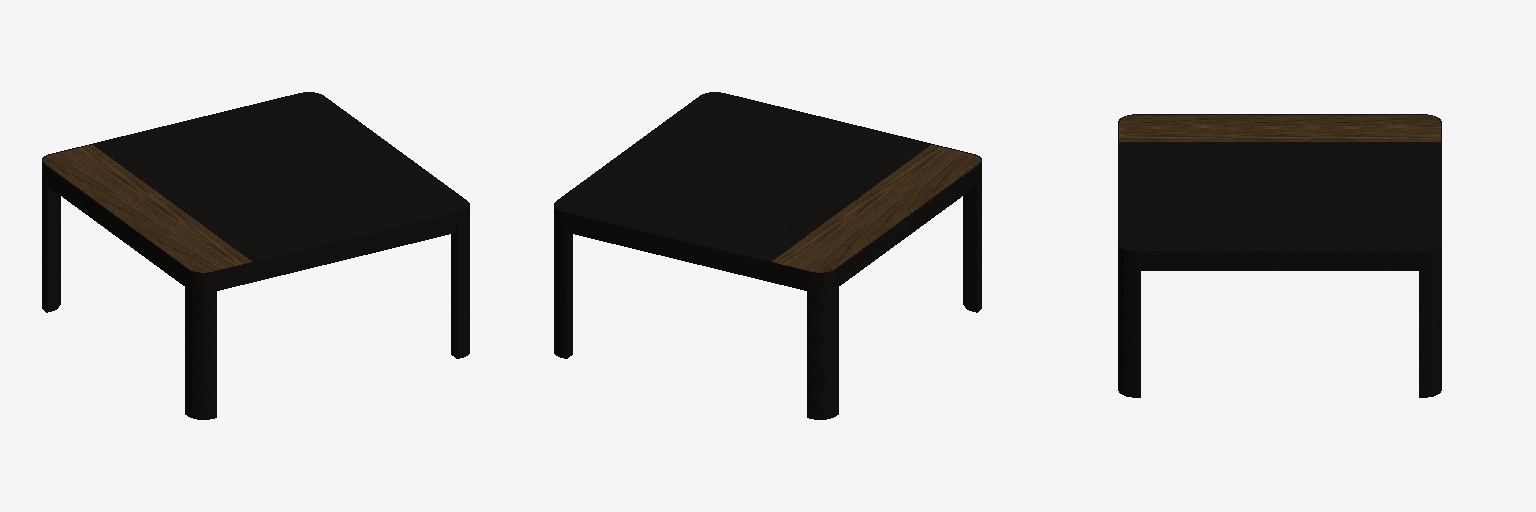
The picture shows the model from 3 angles: view 1: azimuth 30°, elevation 25°; view 2: azimuth 150°, elevation 25°; view 3: azimuth 270°, elevation 25°; orthographic projection.
Visible parts, largest first — view 1: Cube, Cube.002_Cube.003; view 2: Cube, Cube.002_Cube.003; view 3: Cube, Cube.002_Cube.003.
Part boxes in pixels (x1,y1,x2,y2): Cube: (42,92,469,419); Cube.002_Cube.003: (48,180,455,290); Cube: (554,92,981,419); Cube.002_Cube.003: (568,180,975,290); Cube: (1118,114,1441,397); Cube.002_Cube.003: (1141,264,1418,270).
Size of the model in its own units: 0.7 by 0.351 by 0.7.
Materials: 1 (1 with a texture image).